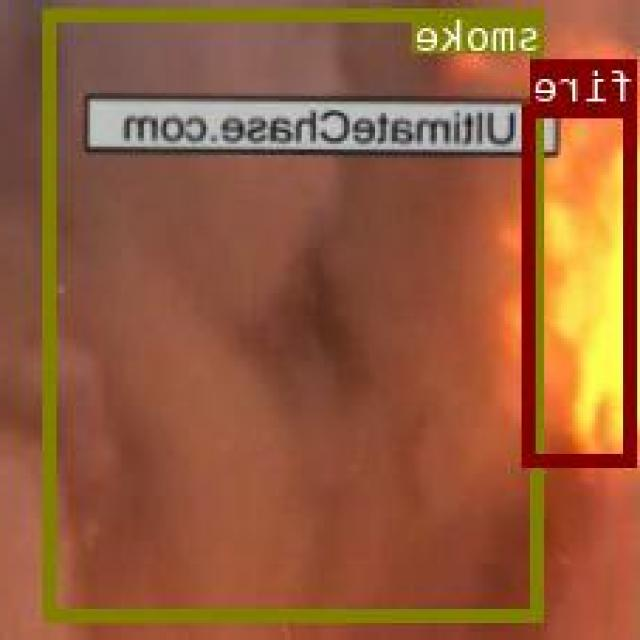fire: (526, 102, 638, 464)
smoke: (46, 8, 544, 620)
